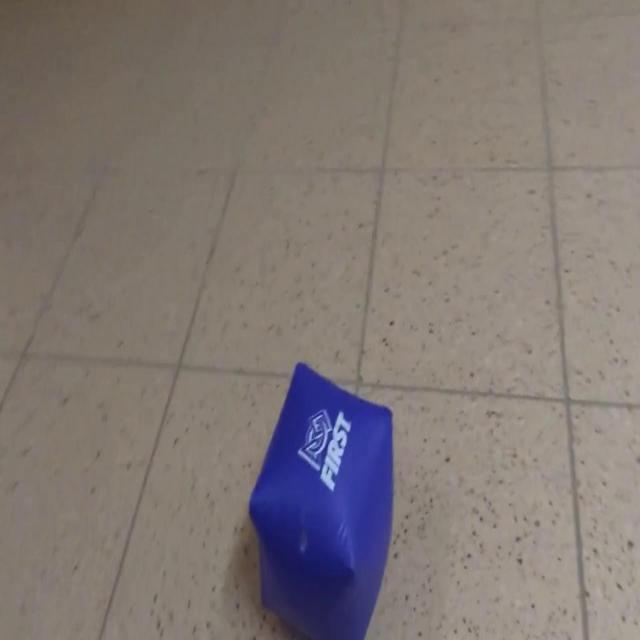frc_cube: (248, 357, 395, 640)
